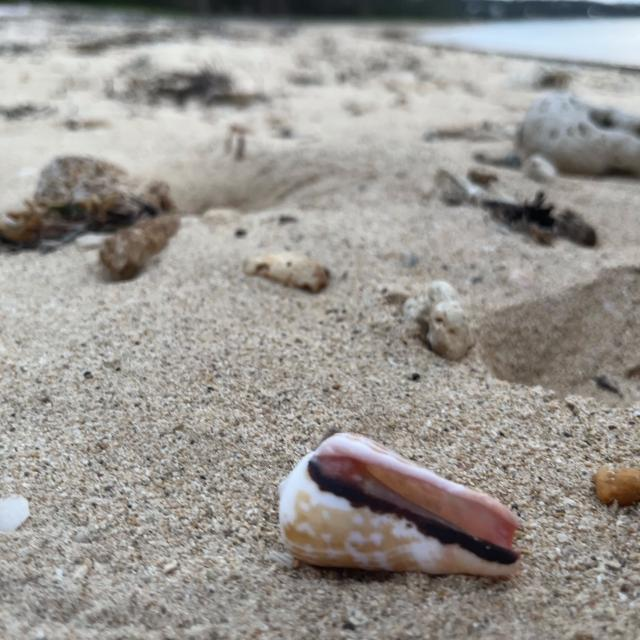rock: (0, 129, 189, 281)
shell: (257, 406, 549, 612)
